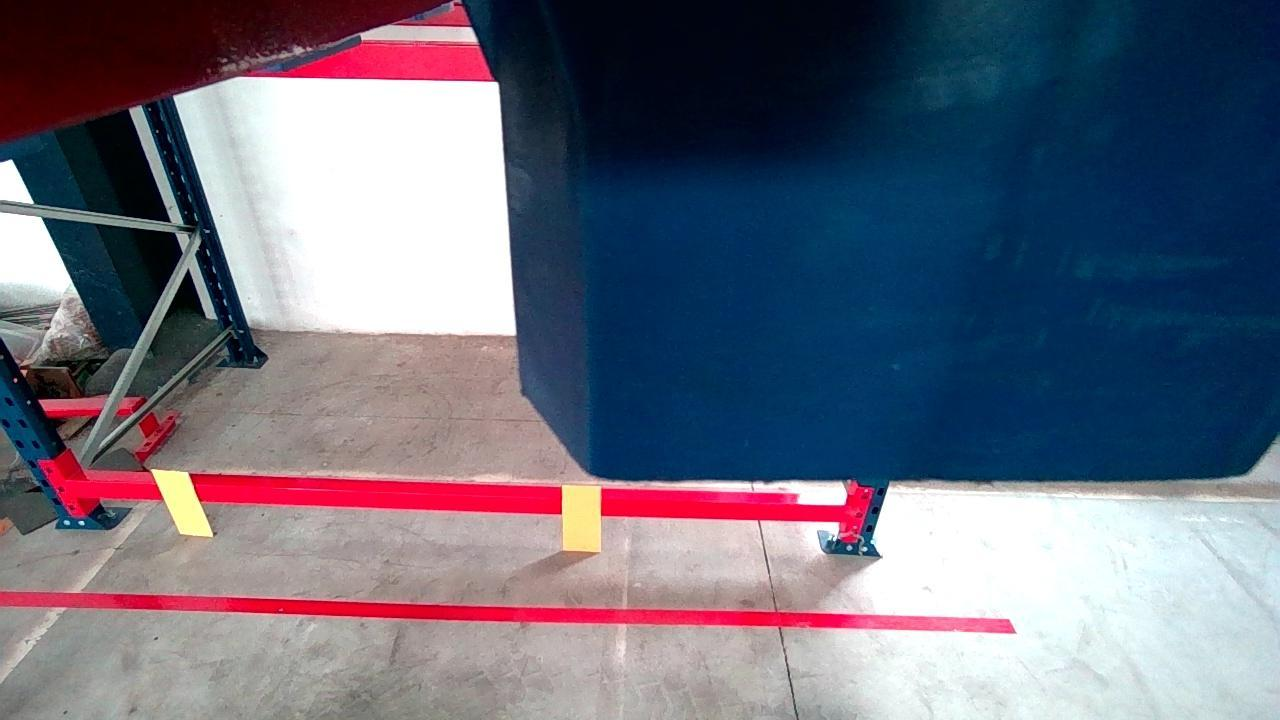h_rack: (69, 479, 846, 521)
orange_strip: (151, 471, 212, 532), (563, 484, 599, 550)
